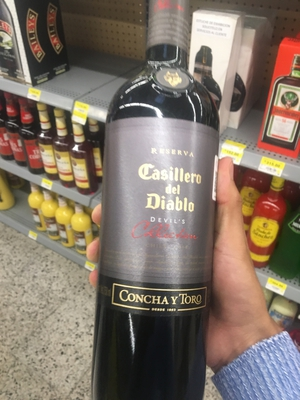casillero del diablo devils collection rojo: (93, 7, 238, 395)
